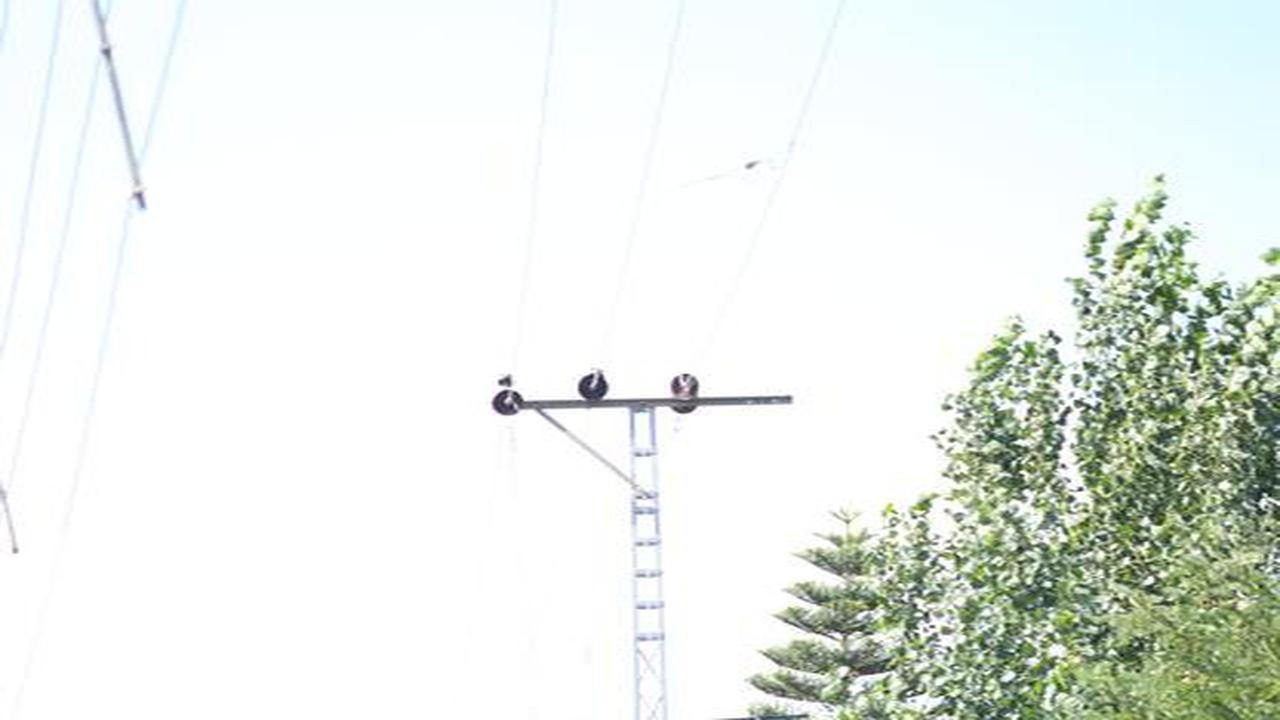insulator_disc: (575, 369, 614, 401), (667, 369, 702, 404), (492, 389, 528, 418)
